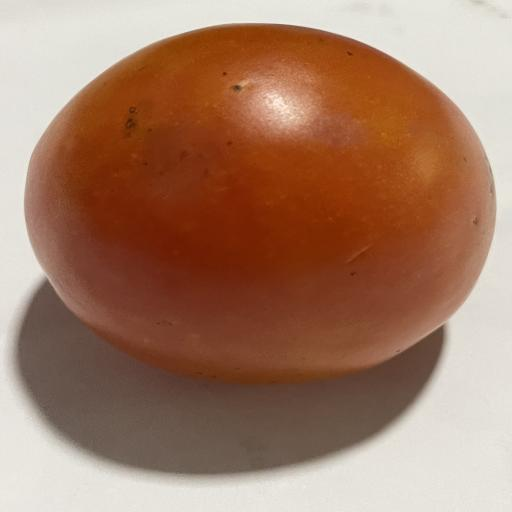ripe: (25, 24, 495, 383)
